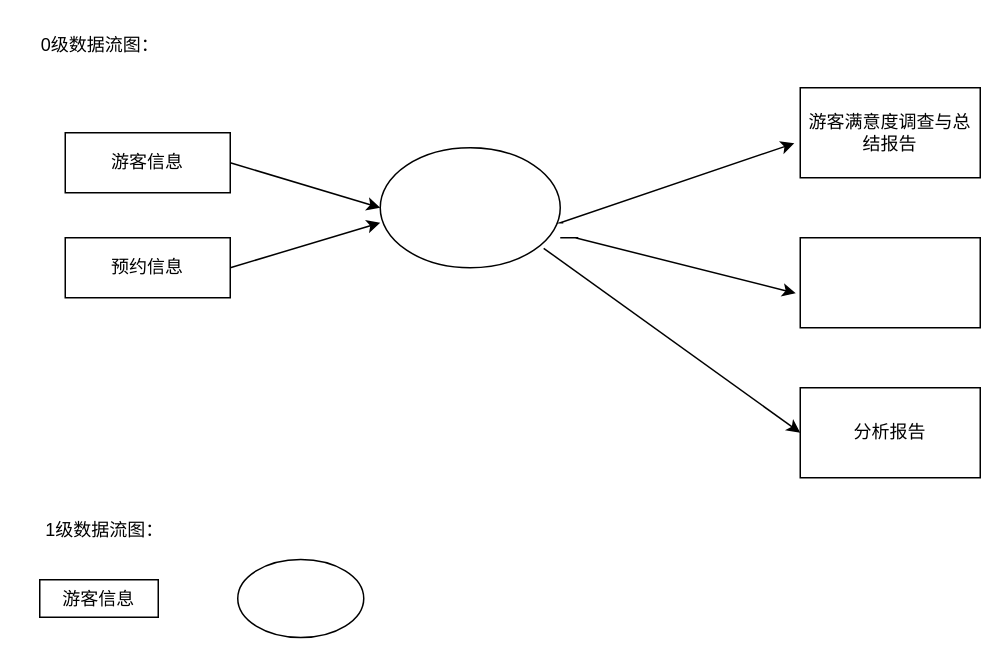
Some shapes in this 1007 by 663 pixel diagram are drawn without their labels. The shapes that lost their labels are listed below. From the top down, each one's centre as x and y in pixels, then its label:
[469,207]: 信息管理系统
[889,282]: 意外事件报告
[300,598]: 1.1游客登记
